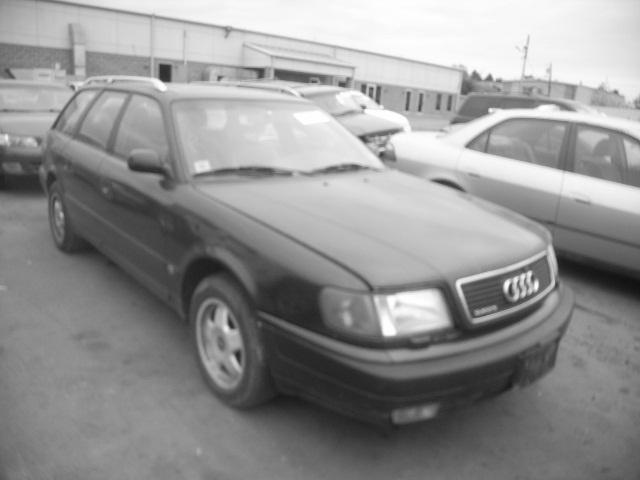car: (42, 77, 573, 431)
